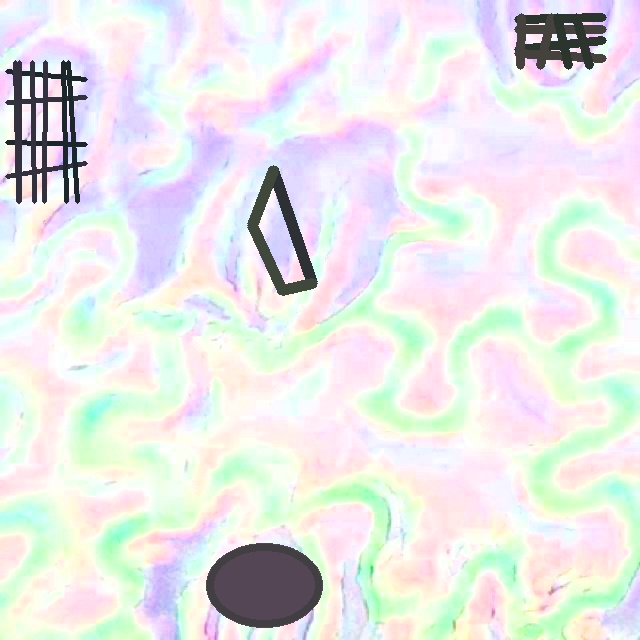close: (5, 60, 87, 203), (514, 13, 606, 69)
open: (205, 543, 323, 627), (247, 166, 316, 295)
